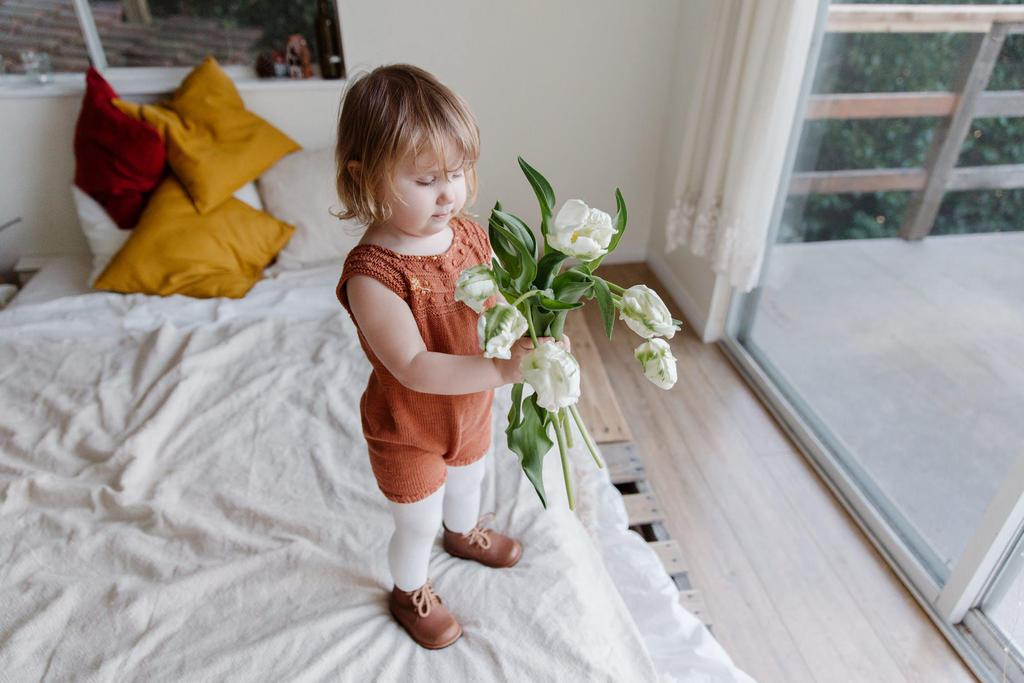child: (296, 58, 553, 651)
